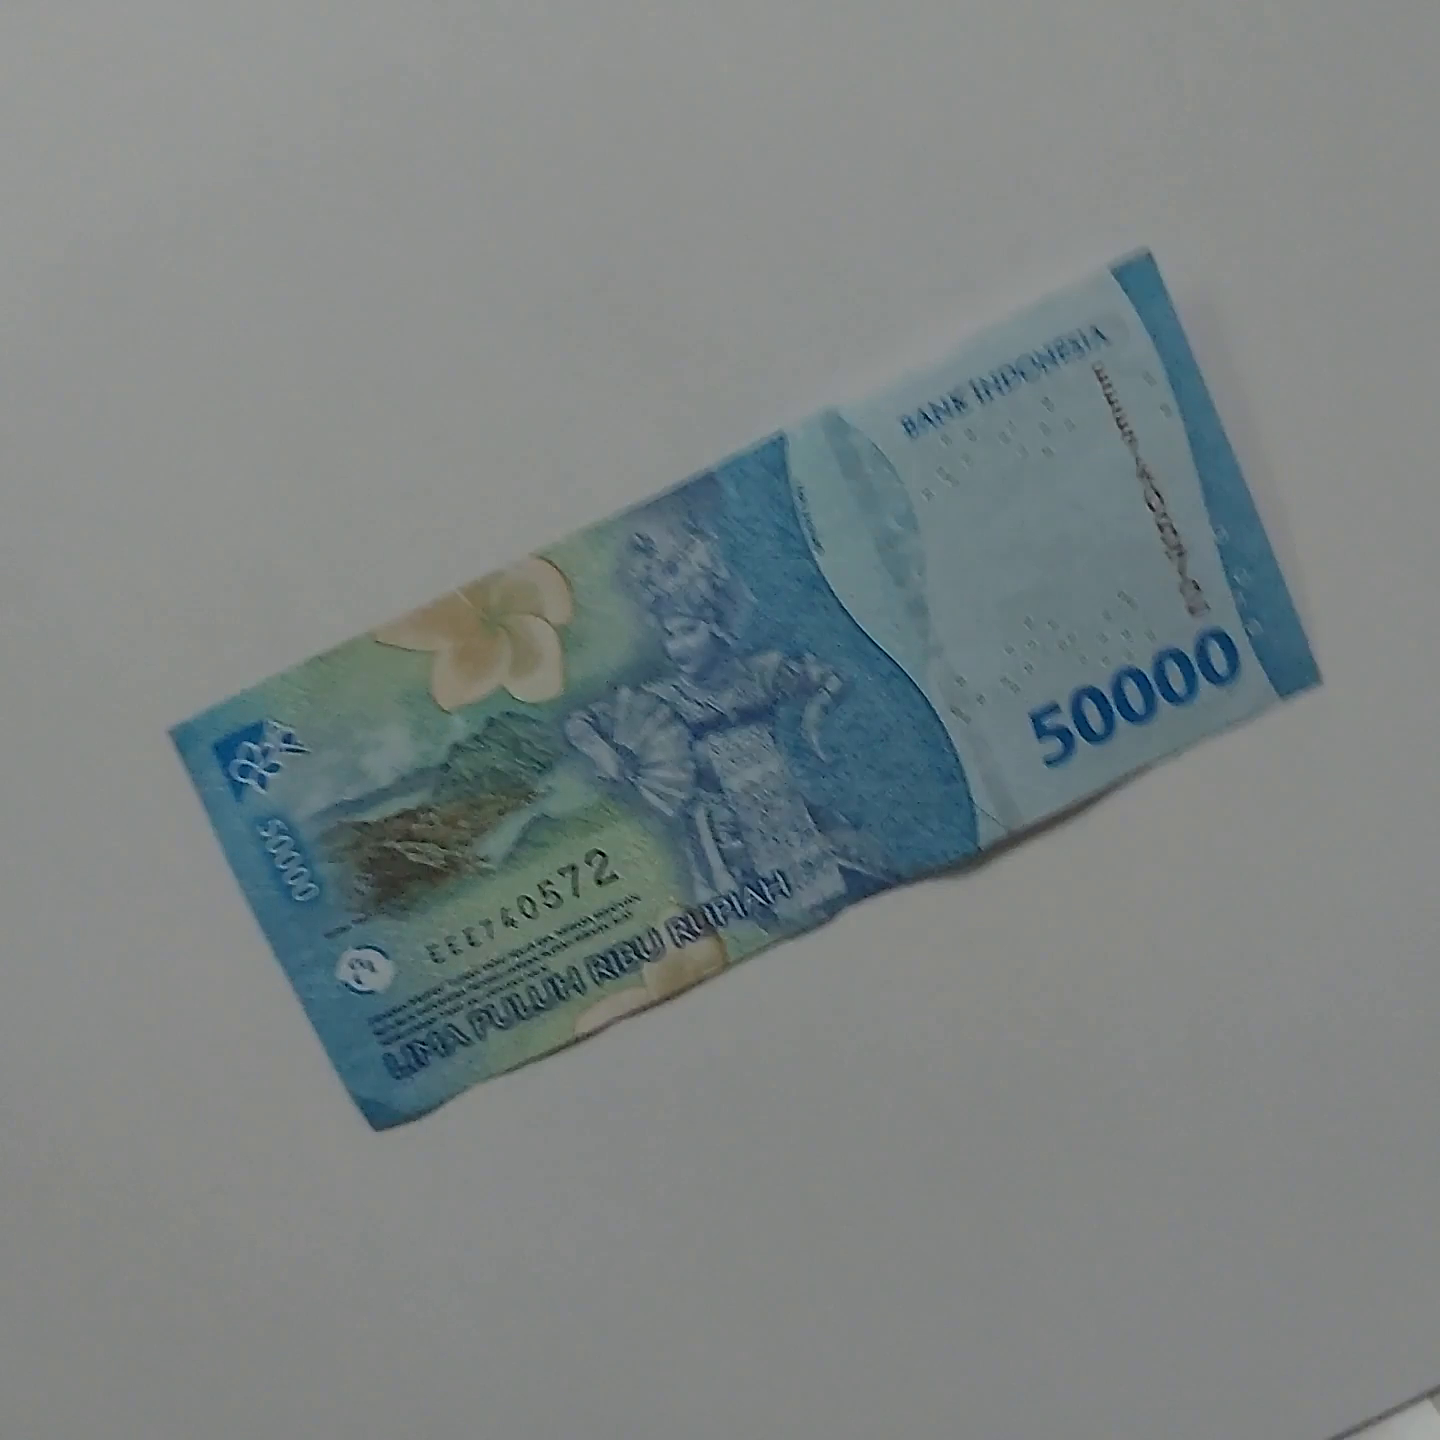50k: (156, 703, 1226, 1224)
